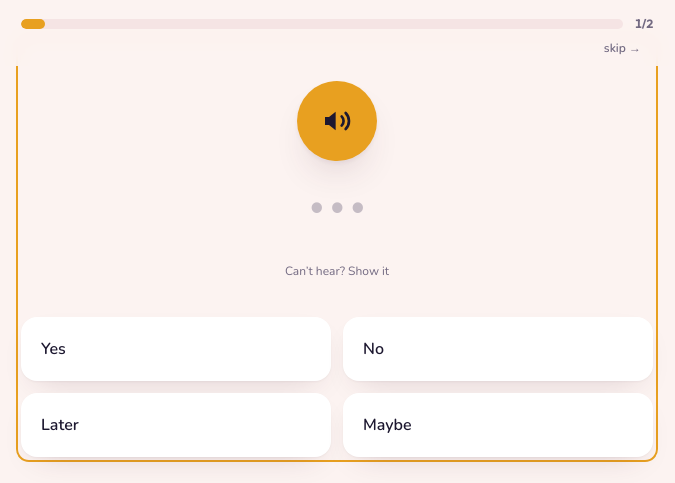
ExerciseRunner › skips forward and counts the skipped exercise as not known
Expected: the text "1/2" is shown, [635, 16, 653, 32]
Click the button "skip →".
click(622, 48)  # box [592, 26, 653, 70]
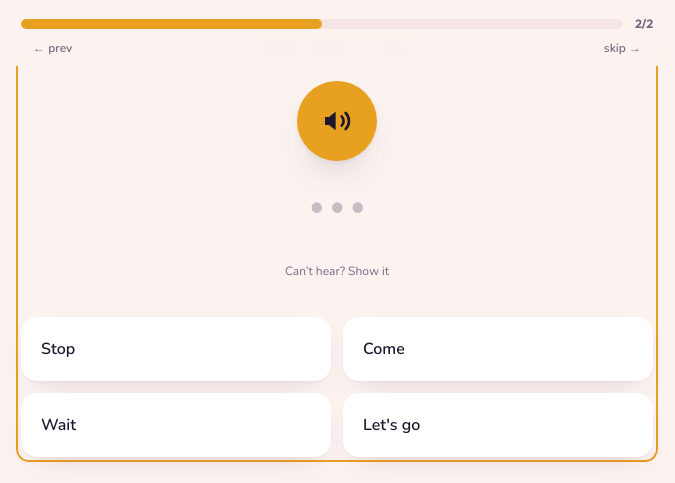
Expected: the text "2/2" is shown, [635, 16, 653, 32]
